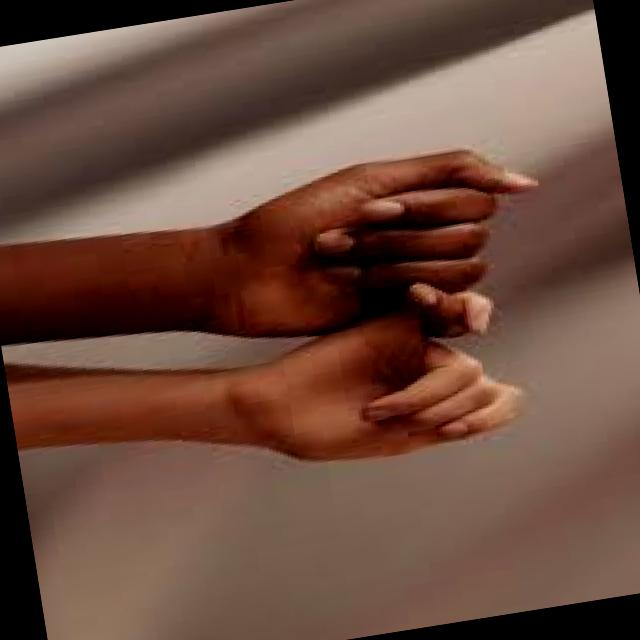Hand: (172, 124, 568, 376), (215, 281, 542, 487)
